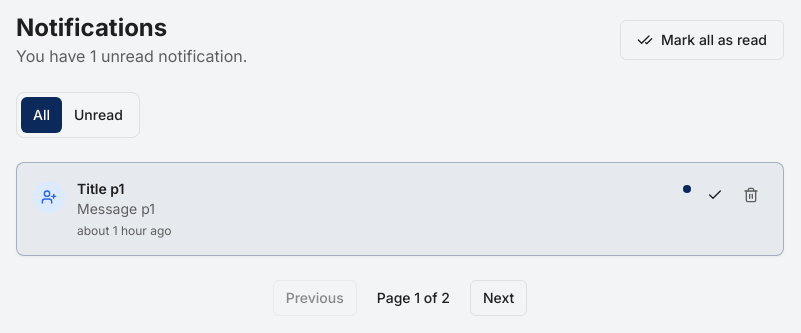
it: Notifications page › paginates
Expected: the text "Title p1" is shown, [77, 179, 182, 197]
Expected: the text "Page 1 of 2" is shown, [377, 289, 450, 306]
Click the button "Next".
click(499, 298)  # box [470, 280, 527, 316]
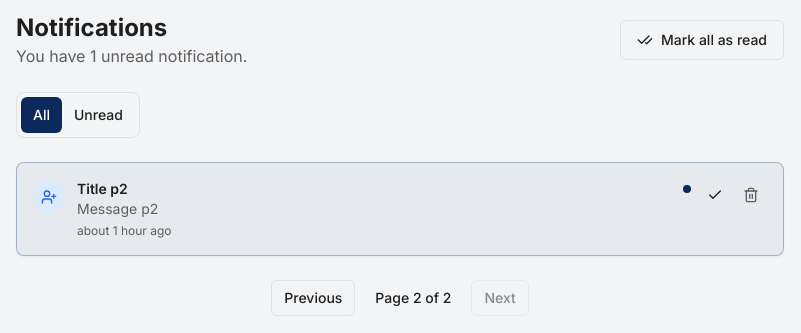
Expected: the text "Title p2" is shown, [77, 179, 185, 197]
Expected: the text "Page 2 of 2" is shown, [375, 289, 451, 306]
